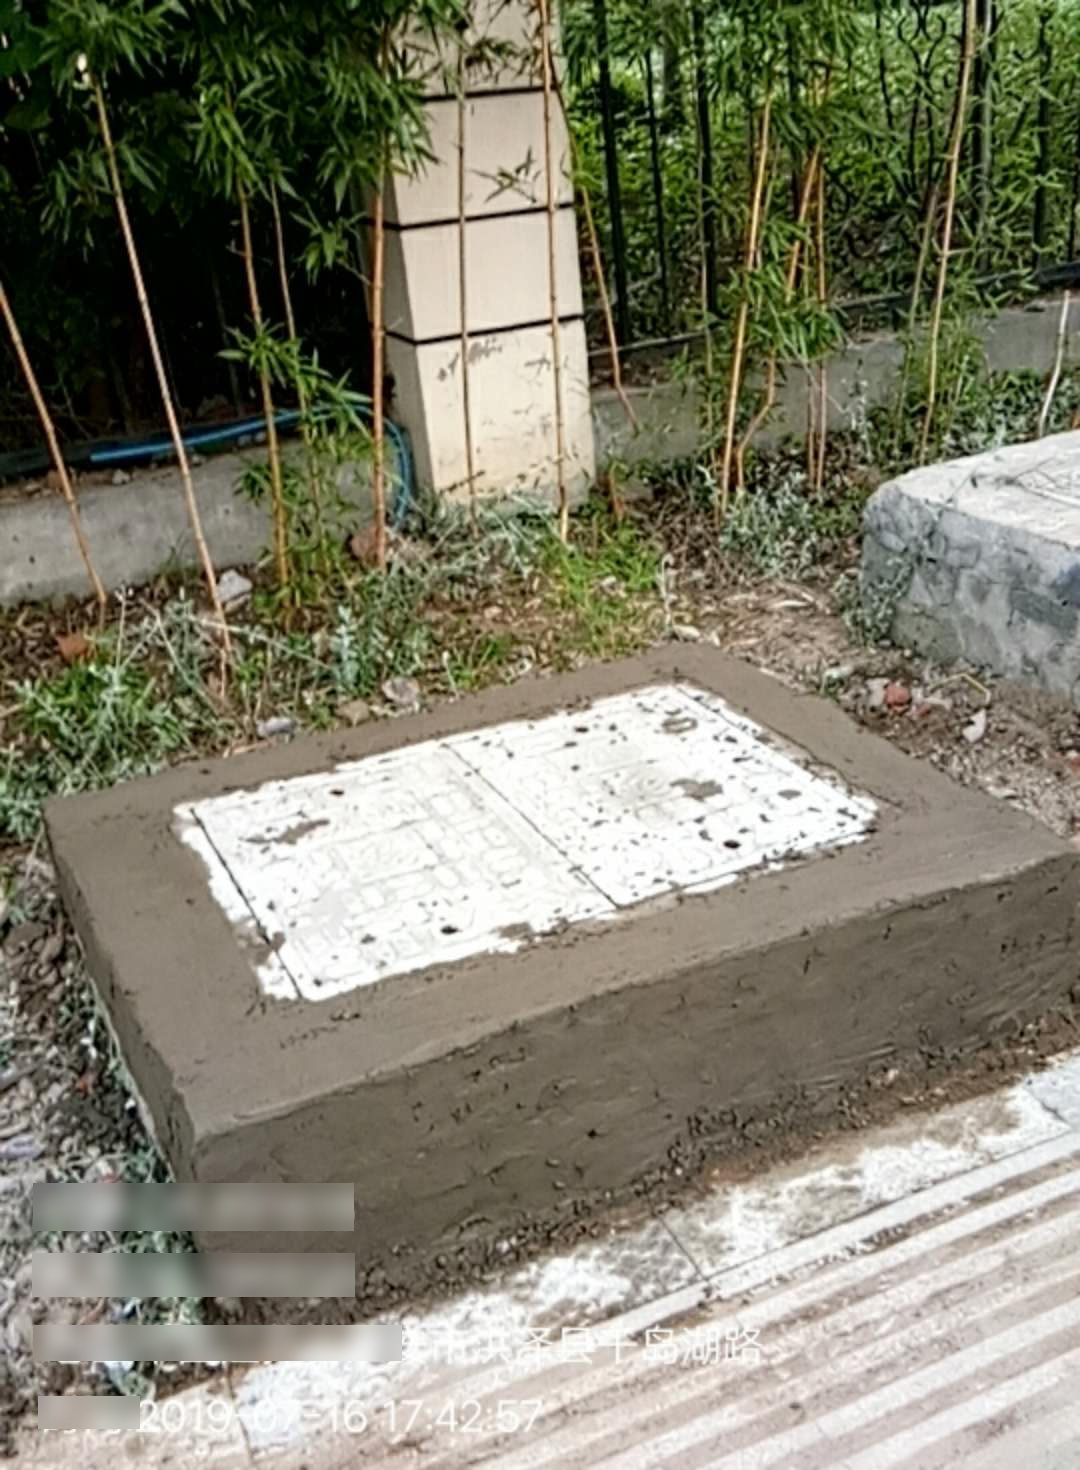good: (167, 675, 909, 1000)
